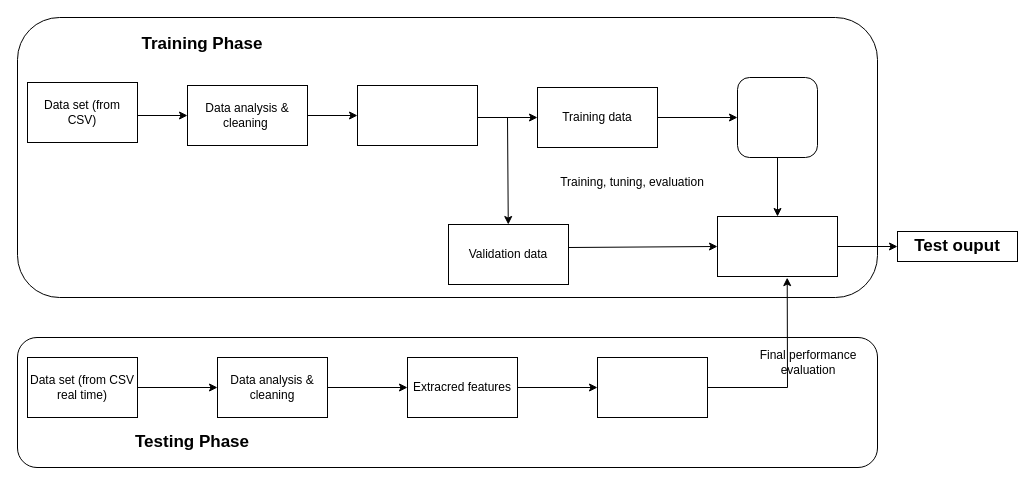
This 1035x485 diagram has some shape labels left out. The shapes that lost their labels are listed below. From the top down, each one's centre as x and y in pixels, then its label:
At point 417,115: "Extracted features".
At point 777,117: "Algorithms".
At point 777,246: "Model".
At point 652,387: "Testing data".
